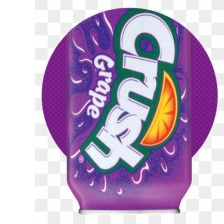can: (65, 6, 195, 215)
